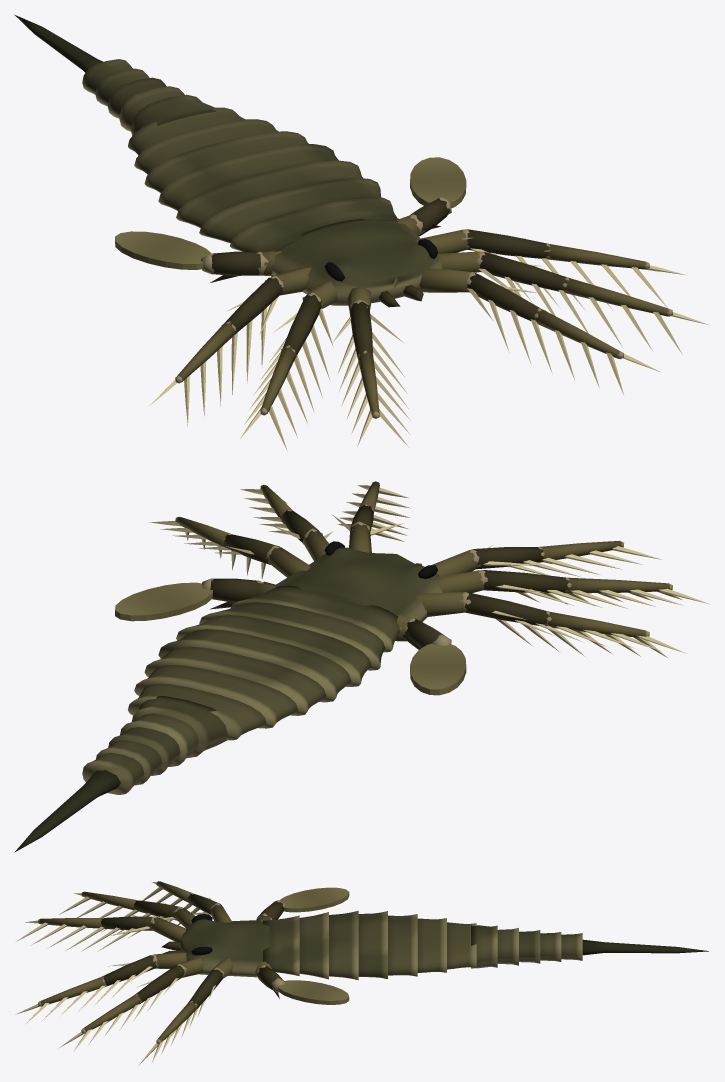
File: EchinognathusClevelandi.fbx
The picture shows the model from 3 angles, top to bottom: view 1: azimuth 30°, elevation 25°; view 2: azimuth 150°, elevation 25°; view 3: azimuth 270°, elevation 25°; orthographic projection. The views are drawn at different scales.
Visible parts, largest first — view 1: EchinognathusClevelandi; view 2: EchinognathusClevelandi; view 3: EchinognathusClevelandi.
Boxes of the visible parts, x1,y1,x2,y2 form: EchinognathusClevelandi: (14, 14, 708, 451); EchinognathusClevelandi: (14, 481, 708, 852); EchinognathusClevelandi: (15, 881, 708, 1065).
Size of the model in its own units: 1.54 by 0.223 by 2.5.
